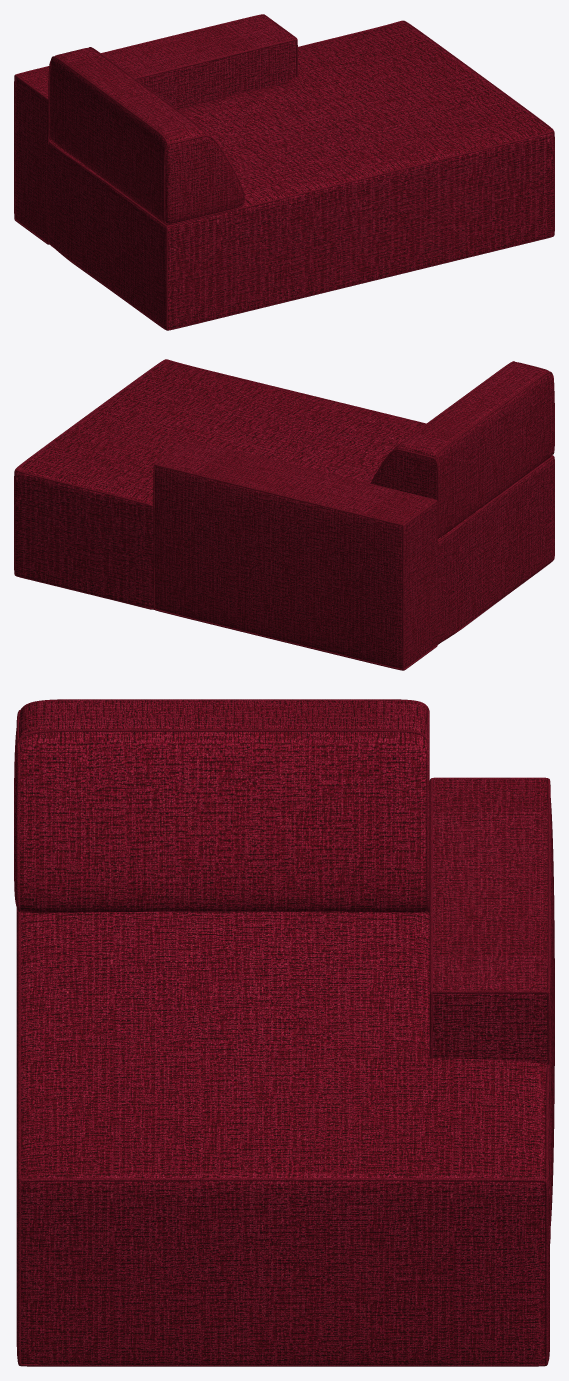
File: longchair_left_130_alpine_sangria.glb
The picture shows the model from 3 angles, top to bottom: view 1: azimuth 30°, elevation 25°; view 2: azimuth 150°, elevation 25°; view 3: azimuth 270°, elevation 25°; orthographic projection. The views are drawn at different scales.
Visible parts, largest first — view 1: Box095, Box077, Box088, Shape044, Shape048, Shape035; view 2: Box095, Box088, Box077, Shape048, Shape044, Shape035; view 3: Box095, Box077, Box088, Shape044, Shape035, Shape048.
Boxes of the visible parts, box(x1,y1,x2,y2) form: Box095: box(46, 21, 553, 329); Box077: box(49, 47, 243, 223); Box088: box(15, 15, 295, 242); Shape044: box(58, 20, 554, 330); Shape048: box(14, 14, 297, 244); Shape035: box(48, 47, 244, 224); Box095: box(15, 360, 554, 643); Box088: box(154, 440, 436, 668); Box077: box(372, 362, 553, 538); Shape048: box(153, 439, 437, 670); Shape044: box(14, 359, 553, 644); Shape035: box(370, 361, 554, 538); Box095: box(16, 910, 549, 1364); Box077: box(14, 700, 427, 912); Box088: box(433, 779, 554, 1225); Shape044: box(17, 911, 549, 1366); Shape035: box(16, 699, 429, 912); Shape048: box(429, 777, 550, 1243).
Size of the model in its own units: 1.75 by 0.8369 by 1.19.
Materials: 2 (2 with a texture image).
